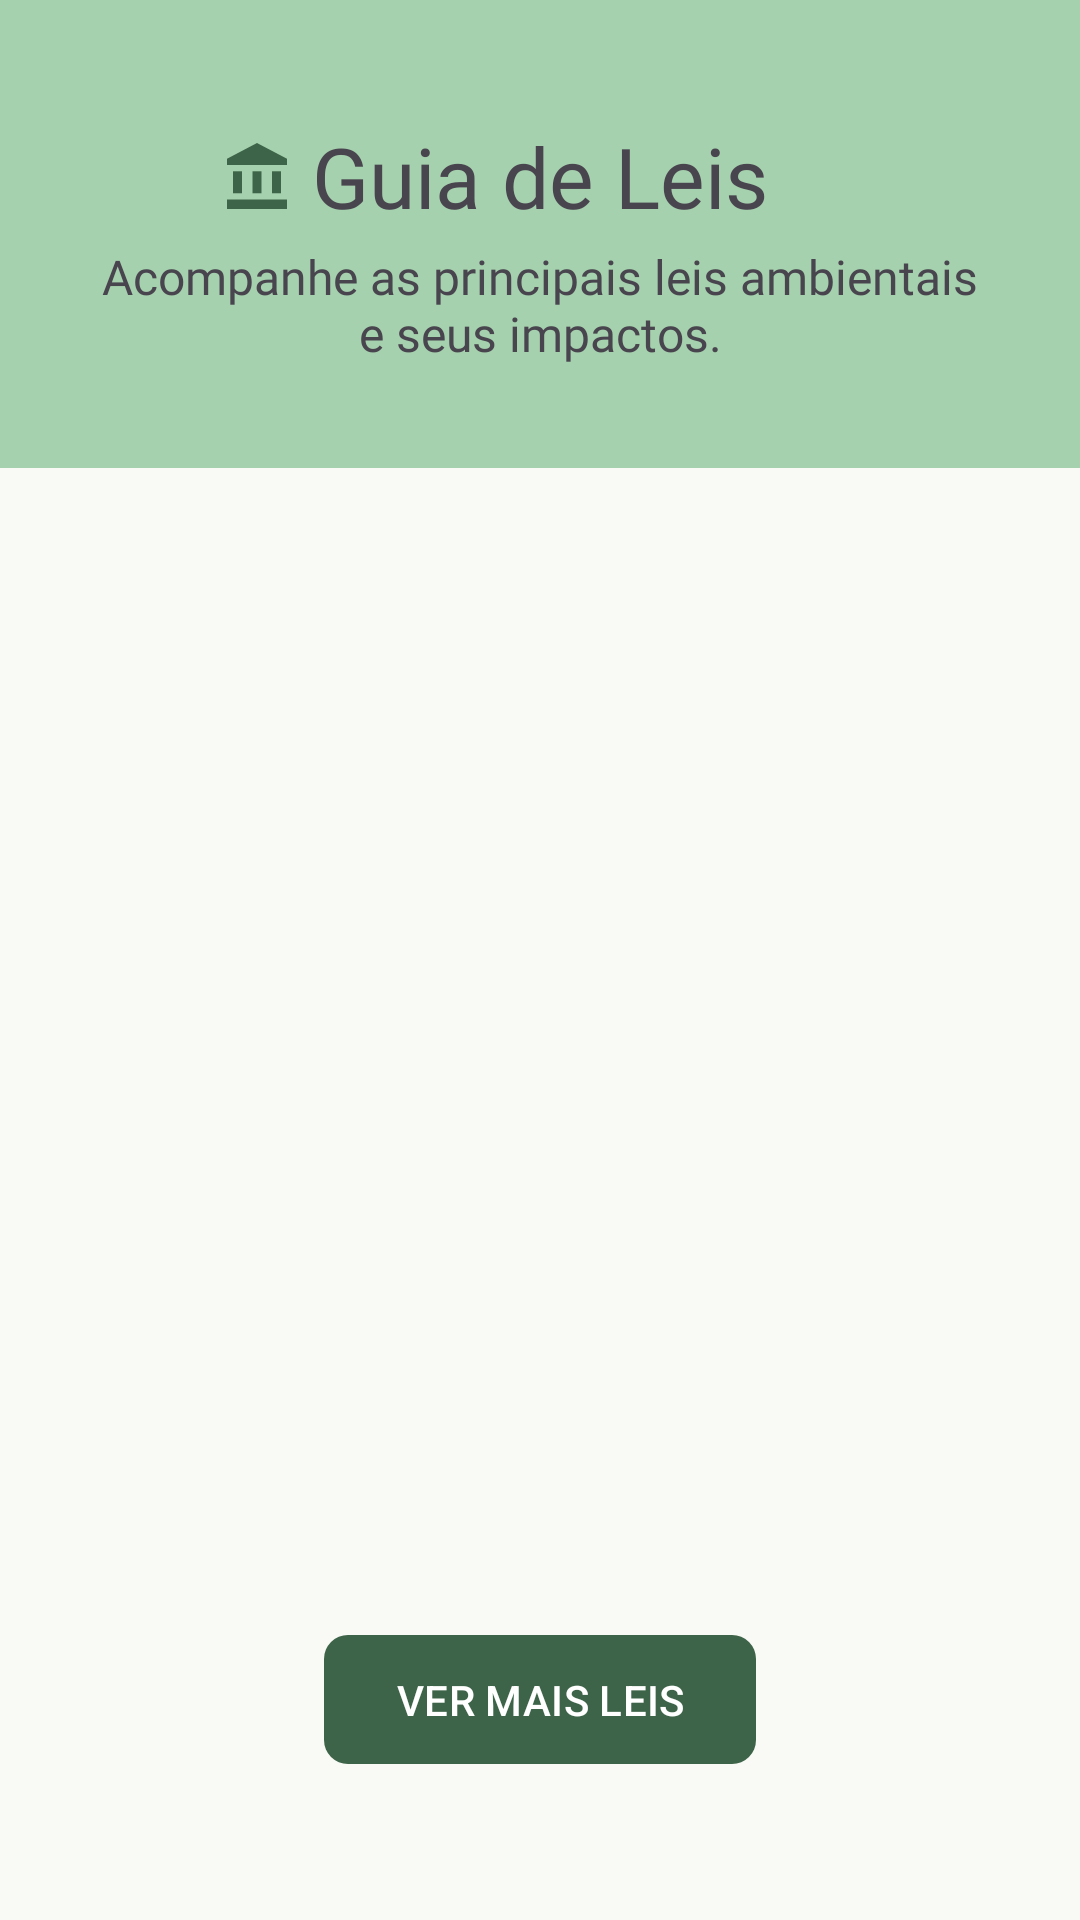

Screen size 1080px×1920px. Icon name, then its box in pixels as BBox(x1, y1, x2, y2):
guia legal: BBox(227, 143, 287, 209)
